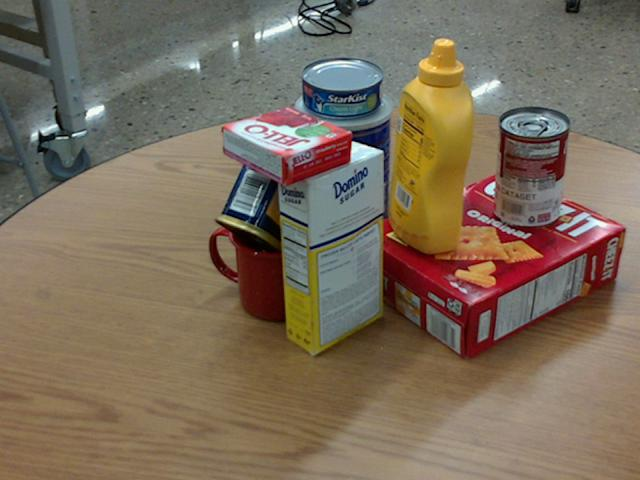cracker_box: (356, 168, 623, 359)
gelatin_box: (220, 104, 352, 185)
large_marker: (424, 119, 444, 221)
master_chef_can: (296, 84, 393, 240)
mug: (207, 204, 322, 319)
mustard_bottle: (388, 37, 473, 253)
potted_meat_can: (214, 138, 329, 263)
sugar_box: (275, 141, 382, 353)
tomato_soup_can: (493, 105, 569, 227)
tuna_fish_can: (301, 57, 383, 117)
